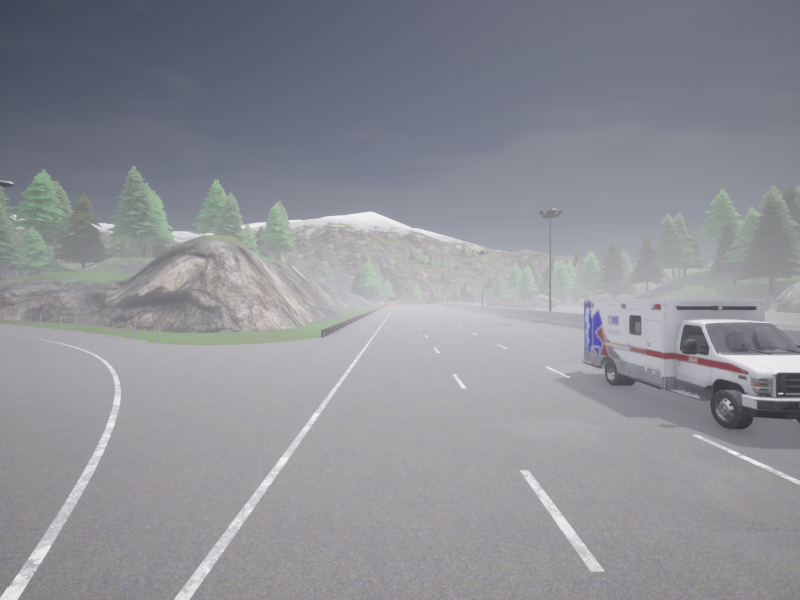vehicle: (581, 299, 799, 428), (486, 301, 487, 302)
